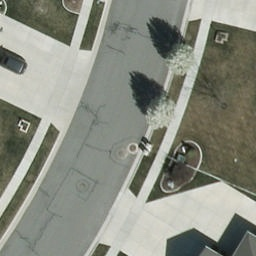car: (0, 44, 28, 77)
